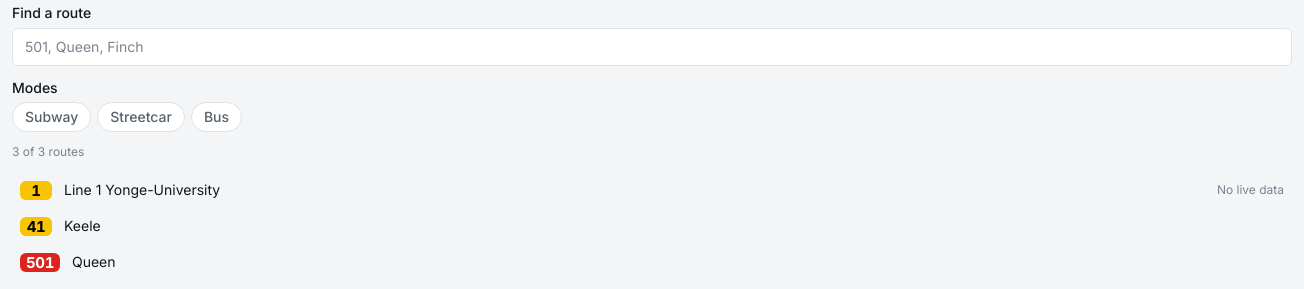
Scenario: RouteFilterPanel › explains an empty result instead of showing a blank list
Type "zzz" into the search field labelled "Find a route".
click(652, 47); type("zzz")  # box [12,28,1292,66]
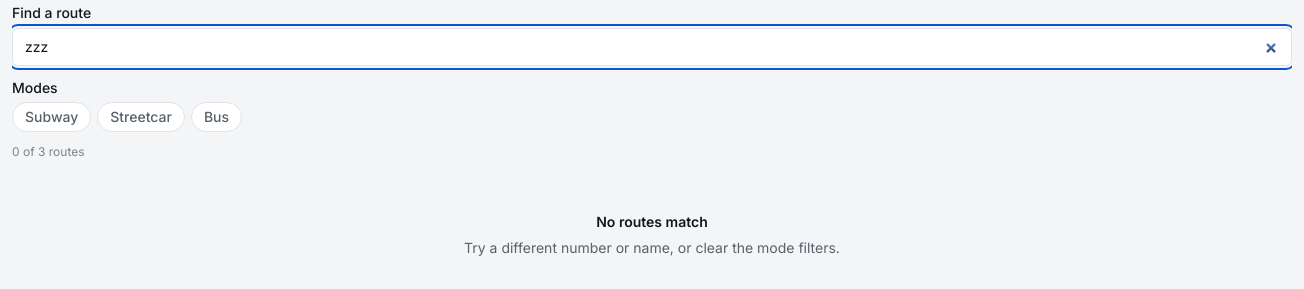
Now the text "No routes match" is shown, box [596,213,708,230]
